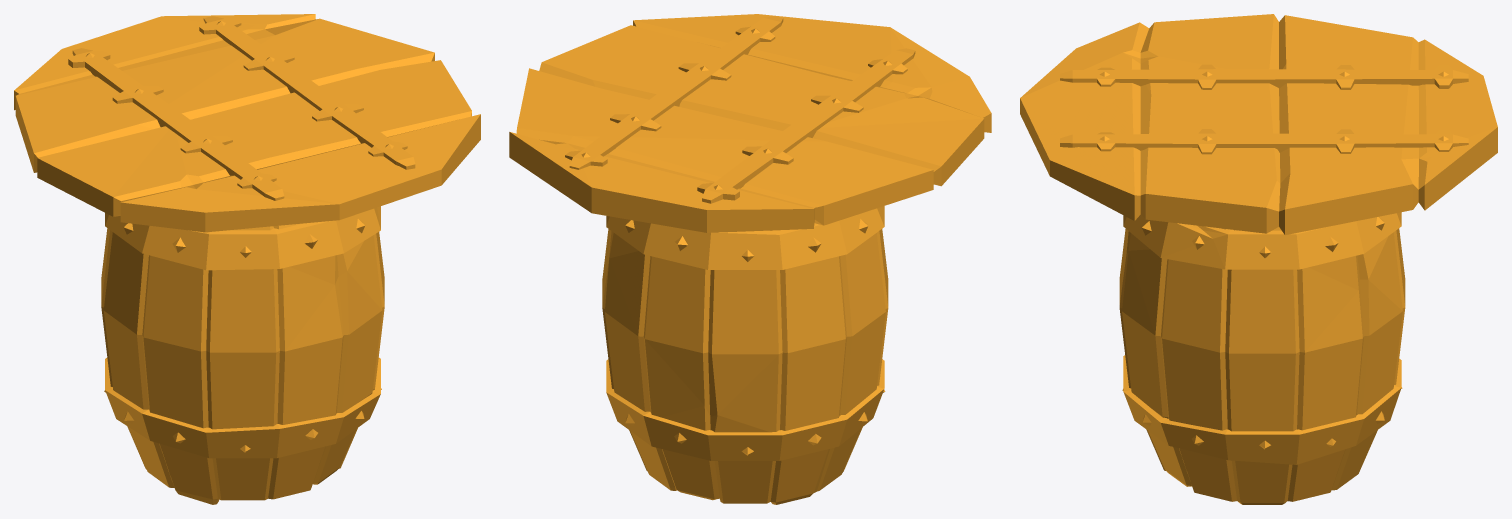
File: SM_Table_Barrel_A_Fantasy.fbx
3 views of the same model, side by side, from view 1: azimuth 30°, elevation 25°; view 2: azimuth 150°, elevation 25°; view 3: azimuth 270°, elevation 25° (orthographic).
Parts seen in each view (by area): view 1: table-barrel-a-fantasy; view 2: table-barrel-a-fantasy; view 3: table-barrel-a-fantasy.
Part boxes in pixels (box(x1,y1,x2,y2)): table-barrel-a-fantasy: box(14, 14, 480, 504); table-barrel-a-fantasy: box(509, 14, 991, 504); table-barrel-a-fantasy: box(1020, 14, 1497, 504).
Size of the model in its own units: 1.22 by 1.05 by 1.24.
